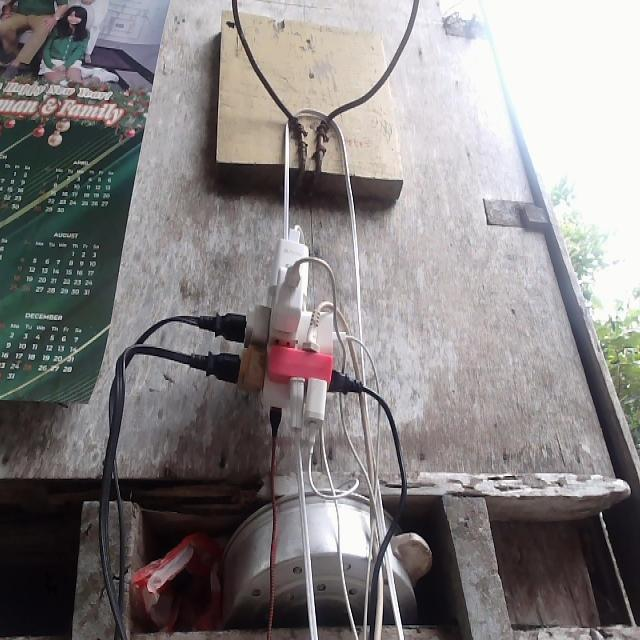-: (189, 219, 365, 452)
